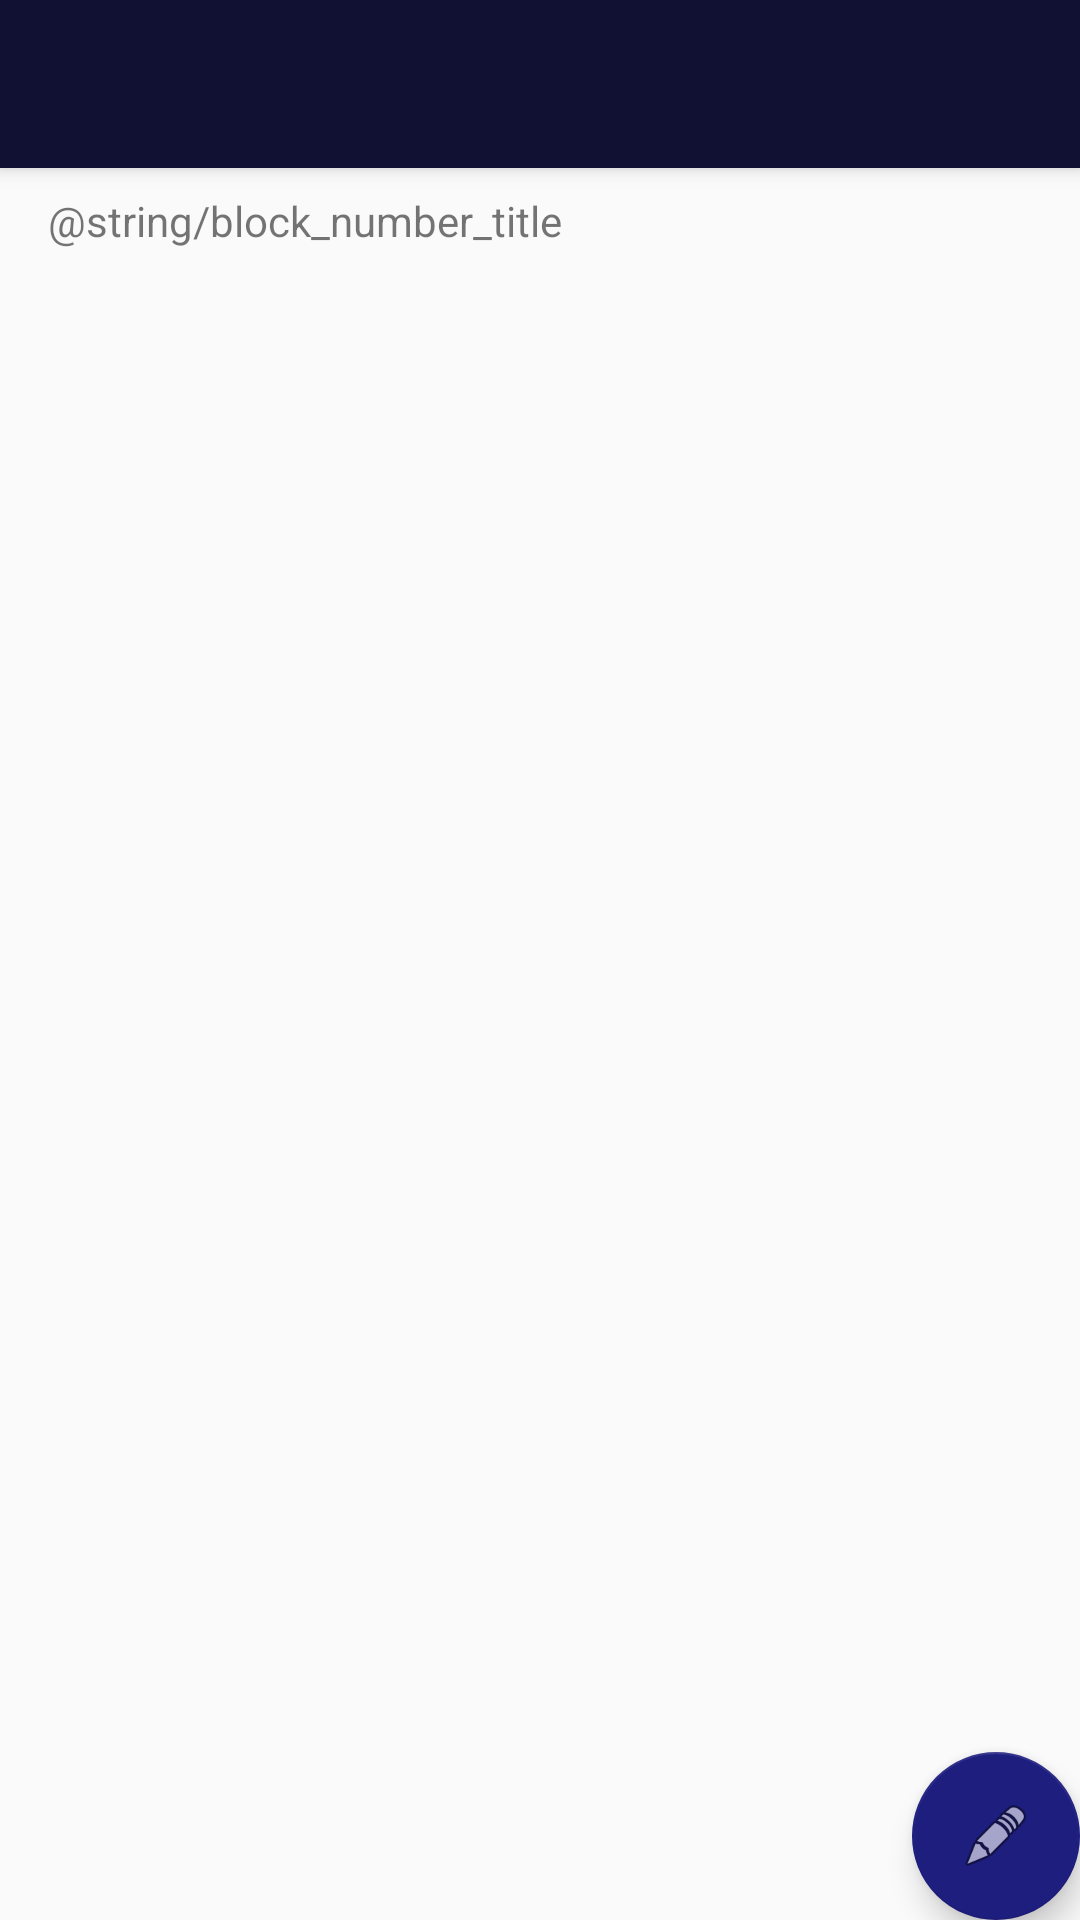

Point at icon controls on the screen. Image size 1080px×1920px, points as (x,y).
edit: (996,1836)
